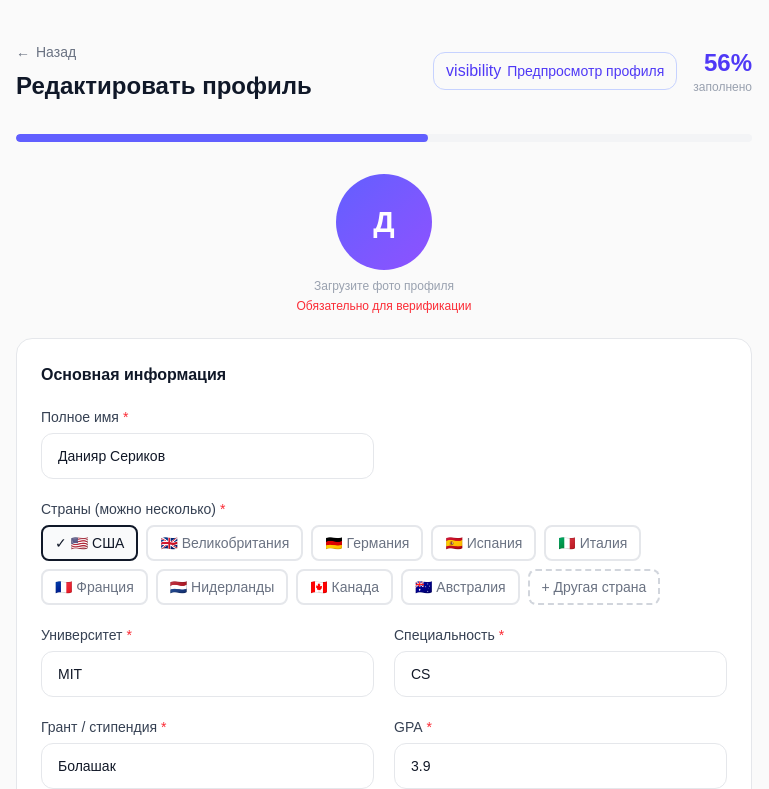
Test: MentorProfilePage — editing › saves successfully and shows the confirmation banner
Replace the text in the field showing "Данияр Сериков" below "Полное имя" with "Данияр С." at (208, 456), box [41, 433, 374, 479]
(page scrolled)
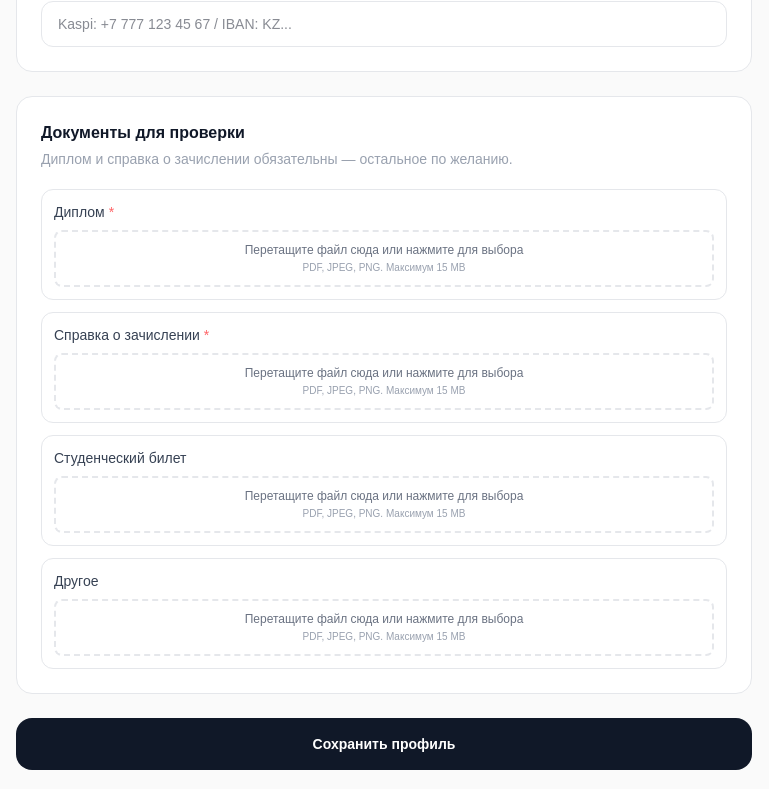
Click the button "Сохранить профиль".
click(384, 744)  # box [16, 718, 752, 770]
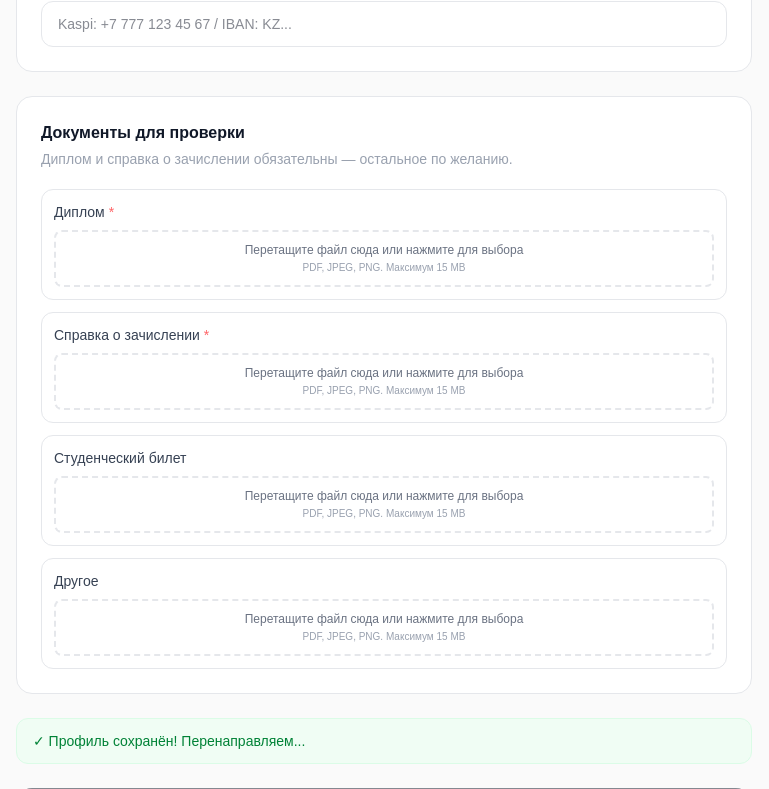
Expected: the text "✓ Профиль сохранён! Перенаправляем..." is shown, [16, 718, 752, 764]
